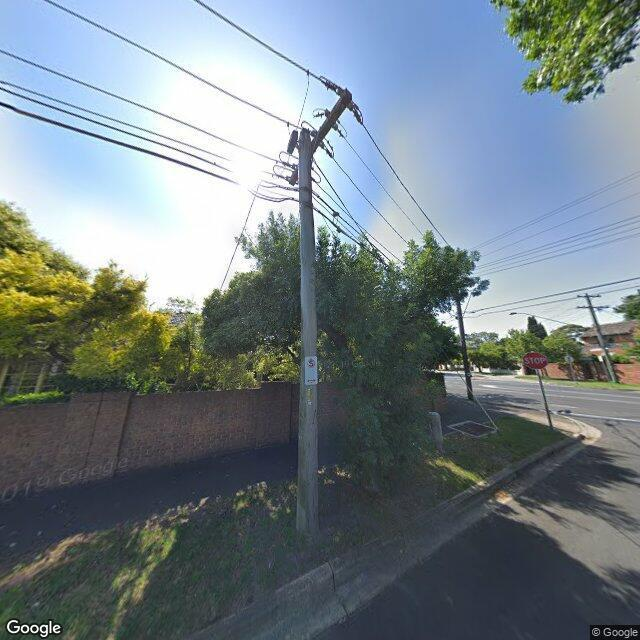HV-transmission: (577, 293, 602, 298)
crossarm: (271, 69, 365, 187), (576, 305, 610, 311), (580, 296, 598, 298)
streetlight: (508, 312, 596, 332)
timber-pole: (296, 128, 319, 542), (586, 295, 619, 383), (455, 294, 474, 400)
